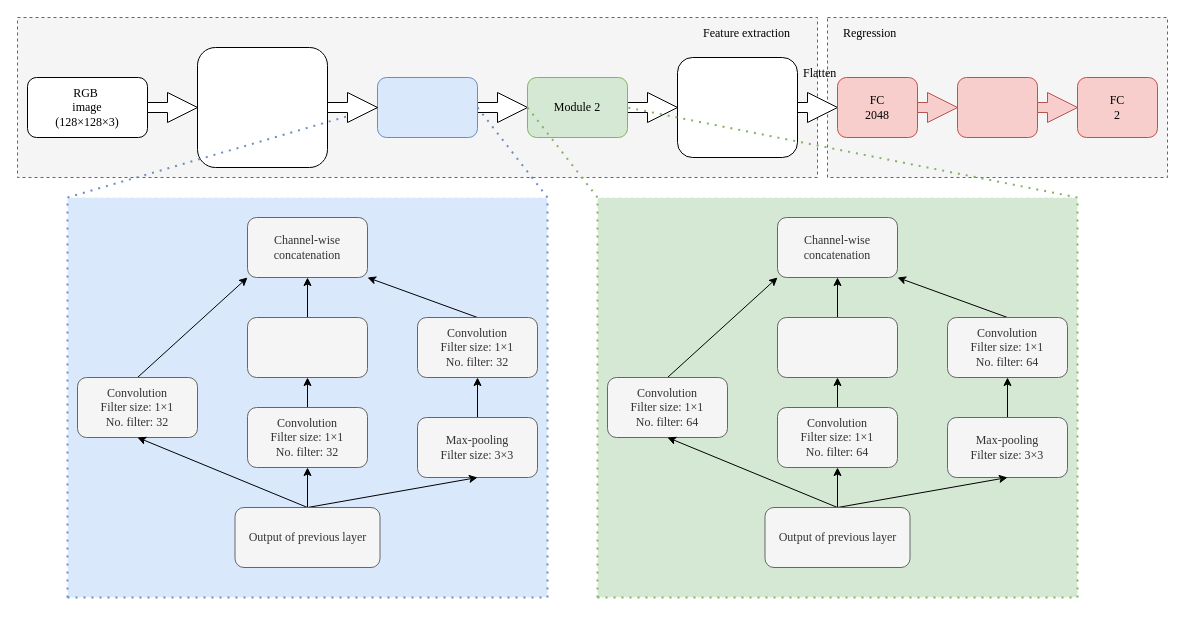
The diagram is 1185 pixels wide and 617 high, and some of its shapes have lost their labels. Here are the shapes that lost their labels. From the top down, the centre of each, then its label:
At (x=262, y=107): "Convolutional layer No. filter: 32 Filter size: 5×5 Padding: valid Stride: 1×1".
At (x=427, y=107): "Module 1".
At (x=737, y=107): "Max-pooling Pool size: 2×2 Padding: same Stride: 2×2".
At (x=997, y=107): "FC 512".
At (x=307, y=347): "Convolution Filter size: 3×3 No. filter: 64".
At (x=837, y=347): "Convolution Filter size: 3×3 No. filter: 128".
